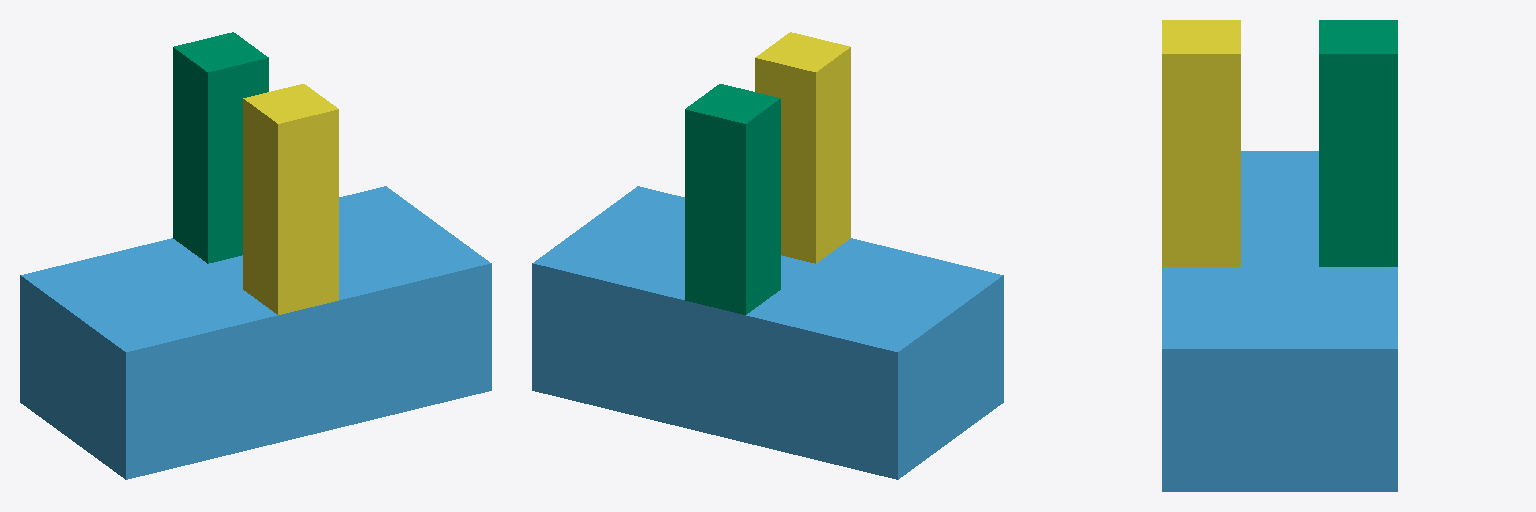
robot.urdf — gripper_ghost:
<?xml version="1.0"?>
<robot name="gripper_ghost">
  <link name="gripper_mount"/>
  <joint name="mount_joint" type="fixed"><parent link="gripper_mount"/><child link="gripper_base"/><origin xyz="0 0 0"/></joint>
  <link name="gripper_base"><inertial><origin xyz="0 0 0"/><mass value="0.3"/><inertia ixx="0.01" ixy="0" ixz="0" iyy="0.01" iyz="0" izz="0.01"/></inertial><visual><origin xyz="0 0 0.02"/><geometry><mesh filename="../meshes/palm.stl"/></geometry></visual><collision><origin xyz="0 0 0.02"/><geometry><mesh filename="../meshes/palm.stl"/></geometry></collision></link>
  <link name="finger_l"><inertial><origin xyz="0 0 0"/><mass value="0.05"/><inertia ixx="0.01" ixy="0" ixz="0" iyy="0.01" iyz="0" izz="0.01"/></inertial><visual><origin xyz="0 0 0.03"/><geometry><mesh filename="../meshes/finger.stl"/></geometry></visual><collision><origin xyz="0 0 0.03"/><geometry><mesh filename="../meshes/finger.stl"/></geometry></collision></link>
  <link name="finger_r"><inertial><origin xyz="0 0 0"/><mass value="0.05"/><inertia ixx="0.01" ixy="0" ixz="0" iyy="0.01" iyz="0" izz="0.01"/></inertial><visual><origin xyz="0 0 0.03"/><geometry><mesh filename="../meshes/finger.stl"/></geometry></visual><collision><origin xyz="0 0 0.03"/><geometry><mesh filename="../meshes/finger.stl"/></geometry></collision></link>
  <joint name="finger_l_joint" type="prismatic"><parent link="gripper_base"/><child link="finger_l"/><origin xyz="0 0.02 0.04"/><axis xyz="0 1 0"/><limit lower="0.0" upper="0.04" effort="100" velocity="2"/></joint>
  <joint name="finger_r_joint" type="prismatic"><parent link="gripper_base"/><child link="finger_r"/><origin xyz="0 -0.02 0.04"/><axis xyz="0 -1 0"/><limit lower="0.0" upper="0.04" effort="100" velocity="2"/><mimic joint="finger_l_joint" multiplier="1" offset="0"/></joint>
</robot>

--- Render facts (derived) ---
3 views of the same robot in one strip: view 1: azimuth 30°, elevation 25°; view 2: azimuth 150°, elevation 25°; view 3: azimuth 270°, elevation 25° (orthographic).
Robot: gripper_ghost — 4 links, 3 joints (2 prismatic, 1 fixed); root link gripper_mount; default pose: all joints at 0.
Links seen in each view (by area): view 1: gripper_base, finger_r, finger_l; view 2: gripper_base, finger_l, finger_r; view 3: gripper_base, finger_l, finger_r.
Link boxes in pixels (bbox=[...]): gripper_base: bbox=[20, 186, 491, 479]; finger_r: bbox=[243, 84, 338, 314]; finger_l: bbox=[173, 32, 268, 263]; gripper_base: bbox=[532, 186, 1003, 479]; finger_l: bbox=[685, 84, 780, 314]; finger_r: bbox=[755, 32, 850, 263]; gripper_base: bbox=[1162, 151, 1397, 491]; finger_l: bbox=[1319, 20, 1397, 266]; finger_r: bbox=[1162, 20, 1240, 266].
Bounding box of the posed robot: 0.12 × 0.06 × 0.1 m (x, y, z).
Meshes: 2 distinct files referenced, 3 mesh visuals loaded (2 binary STL).
